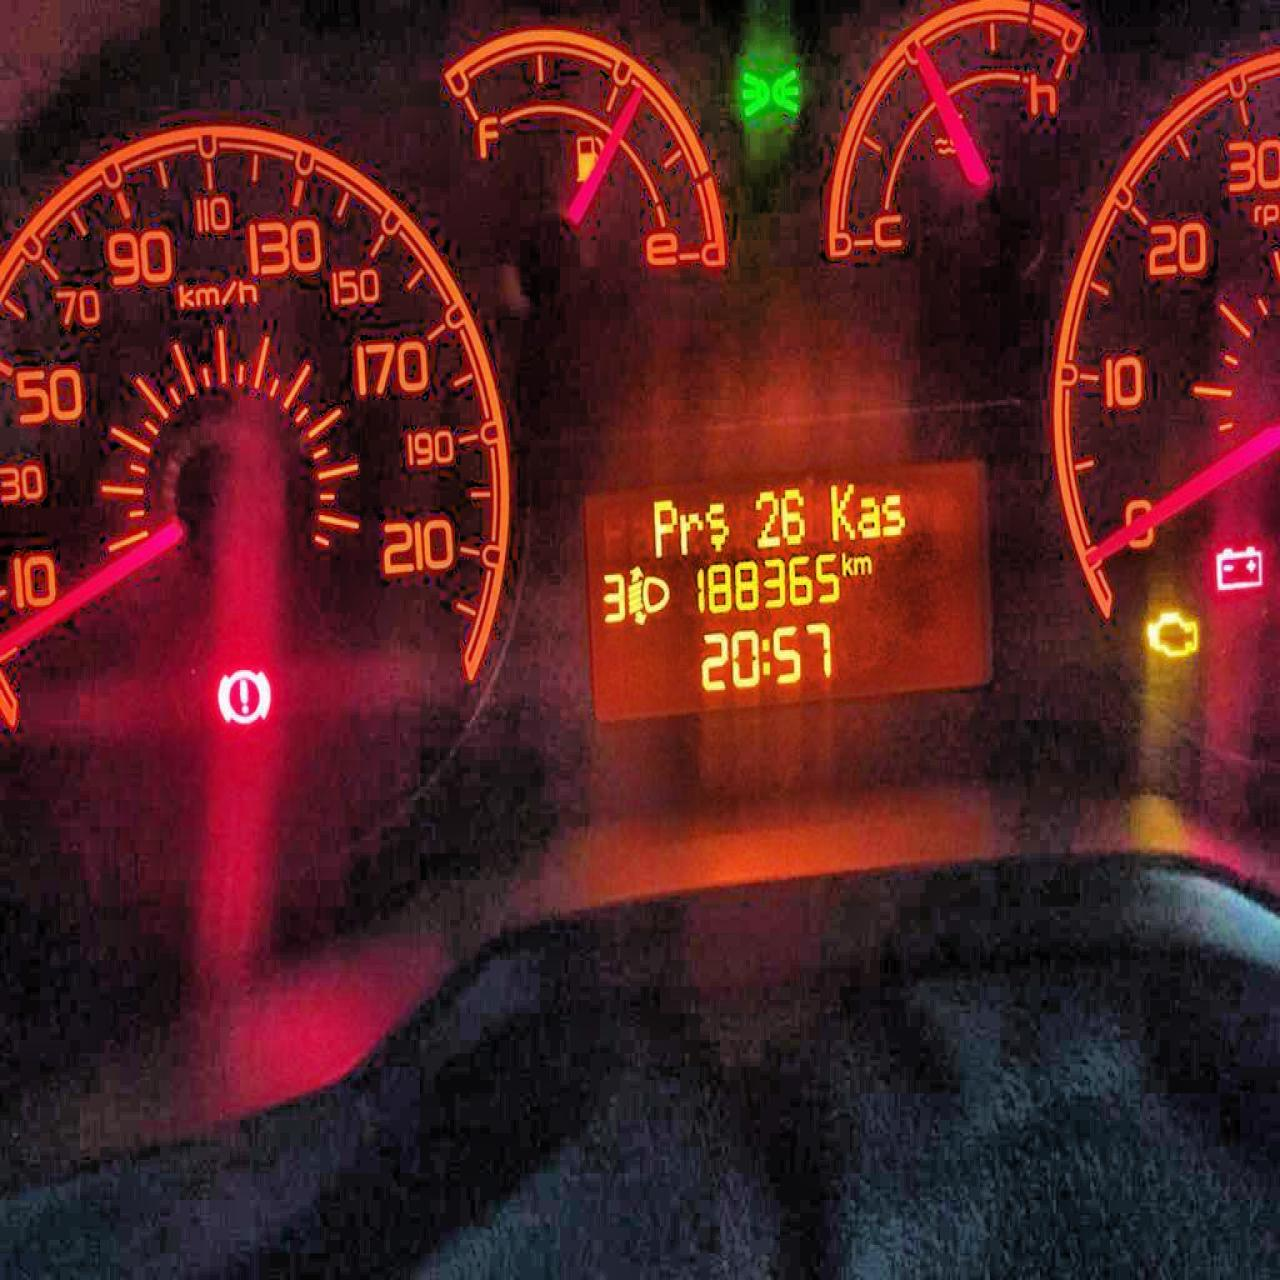0: (730, 628, 760, 688)
1: (695, 565, 704, 612)
2: (700, 632, 728, 690), (754, 489, 779, 549)
3: (761, 557, 785, 608), (601, 572, 625, 624)
5: (771, 624, 799, 683), (813, 552, 838, 604)
6: (779, 486, 805, 543), (788, 553, 812, 605)
7: (805, 620, 831, 679)
8: (704, 561, 731, 613), (733, 558, 758, 610)
X: (652, 498, 678, 558), (829, 482, 855, 540), (703, 501, 729, 552), (856, 495, 880, 538), (880, 492, 905, 536), (679, 510, 702, 554), (760, 636, 770, 675), (852, 553, 871, 574), (839, 550, 852, 576)
odometer: (579, 456, 989, 727)
